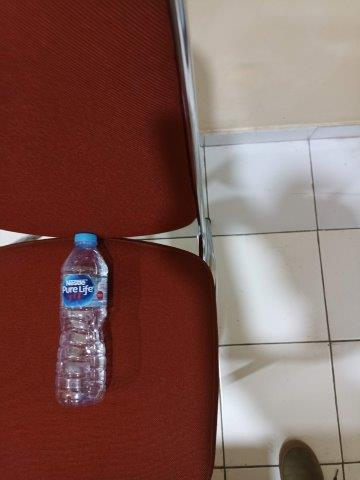botolplastik: (55, 232, 107, 403)
